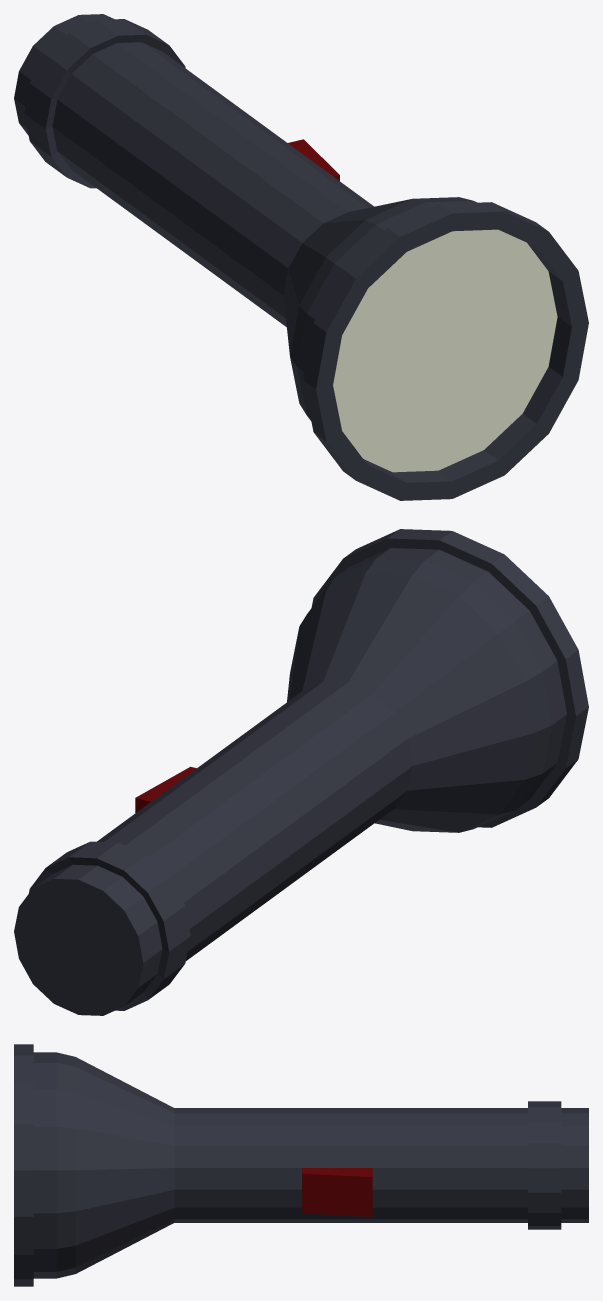
Rendered from flashlight.fbx.
3 renders of one model, top to bottom at view 1: azimuth 30°, elevation 25°; view 2: azimuth 150°, elevation 25°; view 3: azimuth 270°, elevation 25°, orthographic. The views are drawn at different scales.
Visible parts, largest first — view 1: Carcasa, Bombilla; view 2: Carcasa, On/off; view 3: Carcasa, On/off.
Boxes of the visible parts, left/top/right/bottom form: Carcasa: left=14, top=14, right=588, bottom=500; Bombilla: left=333, top=229, right=557, bottom=472; Carcasa: left=14, top=529, right=588, bottom=1015; On/off: left=135, top=766, right=196, bottom=812; Carcasa: left=14, top=1044, right=588, bottom=1286; On/off: left=302, top=1168, right=372, bottom=1216.
Bounding box in the file's own units: 16.89 × 16.89 × 40.08.
